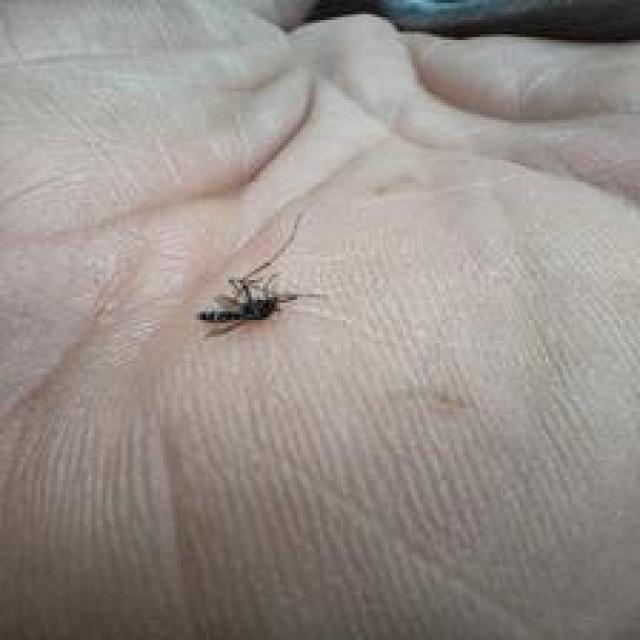Aedes albopictus: (196, 211, 327, 340)
